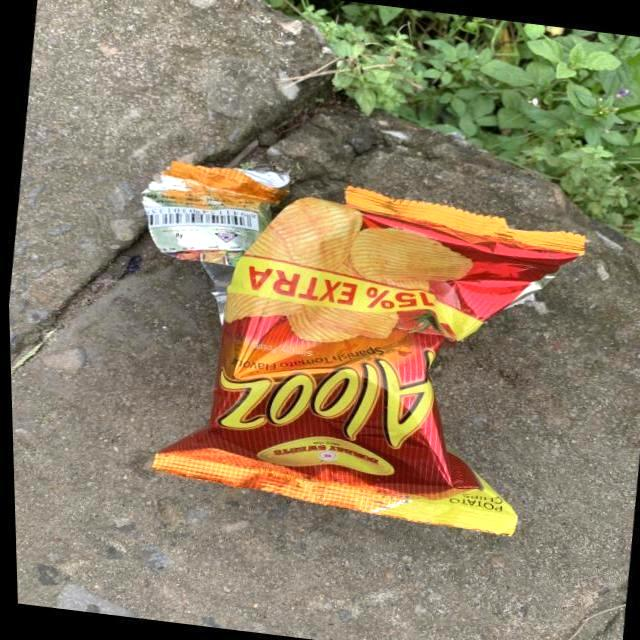packet: (225, 175, 455, 520)
